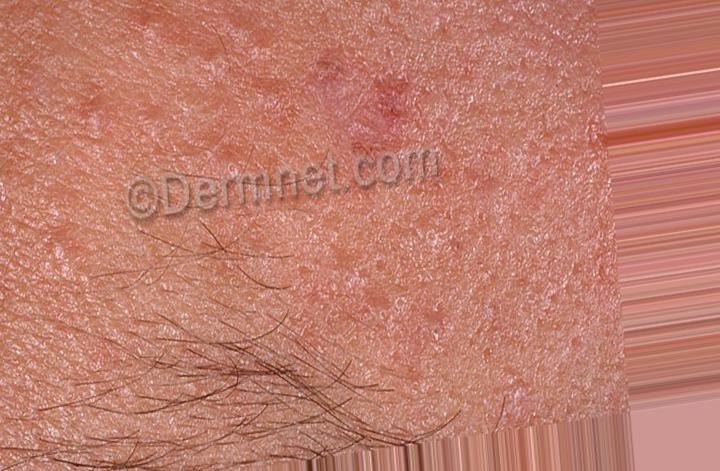Acne: (59, 27, 544, 256)
